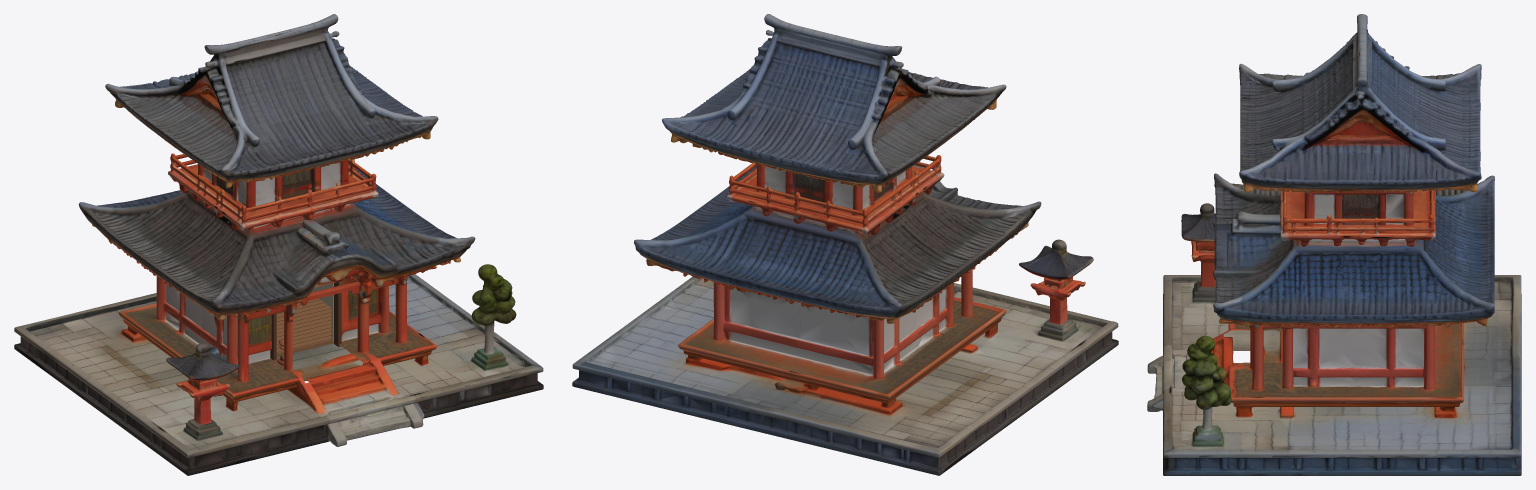
The model's file is temple.glb.
3 renders of one model, left to right at view 1: azimuth 30°, elevation 25°; view 2: azimuth 150°, elevation 25°; view 3: azimuth 270°, elevation 25°, orthographic. The views are drawn at different scales.
Visible parts, largest first — view 1: temple-near; view 2: temple-near; view 3: temple-near.
Boxes of the visible parts, <box> form: temple-near: <box>14,14,543,475</box>; temple-near: <box>572,14,1118,475</box>; temple-near: <box>1147,14,1521,475</box>.
Bounding box in the file's own units: 0.9999 × 0.8905 × 0.8829.
Materials: 4 (1 with a texture image).
